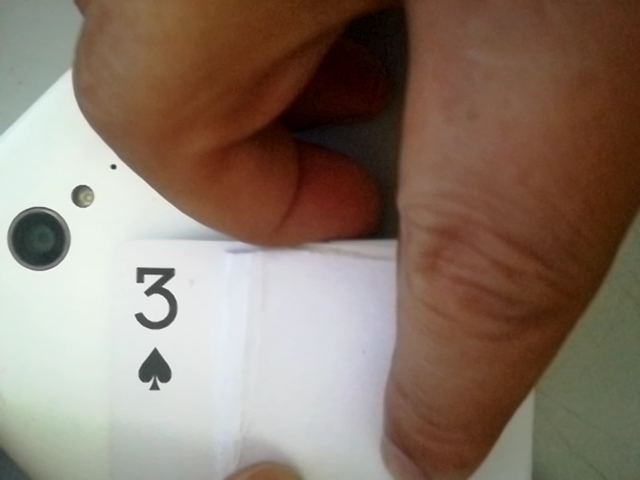ht 3: (116, 252, 200, 402)
